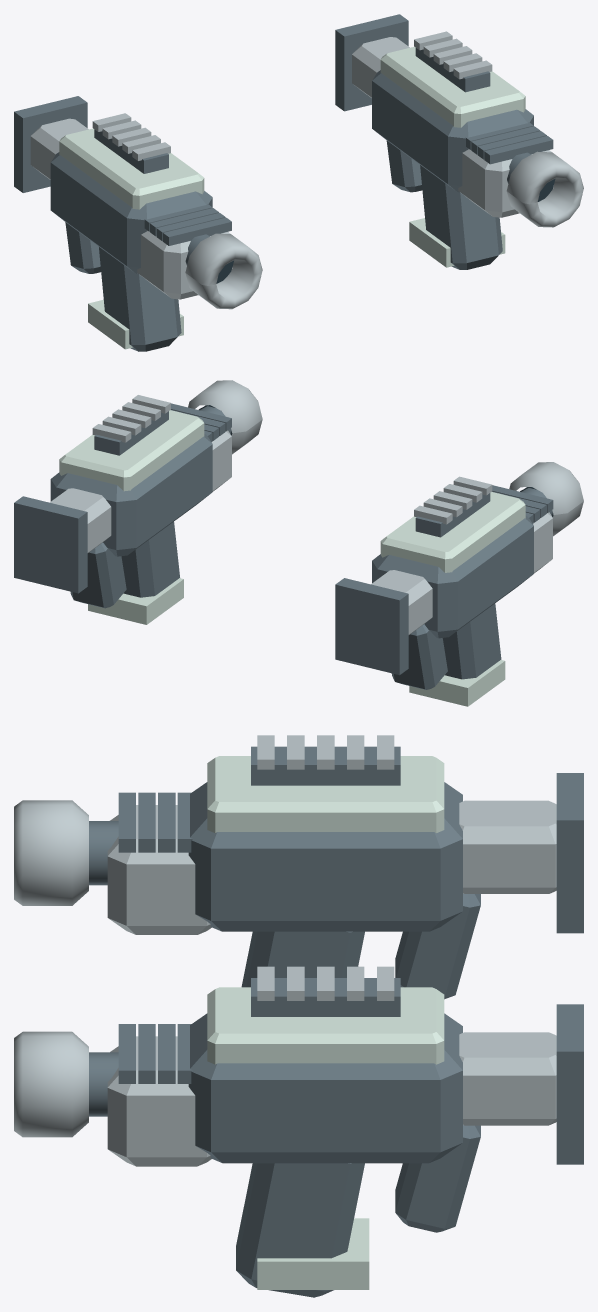
The model's file is dual.glb.
The picture shows the model from 3 angles, top to bottom: view 1: azimuth 30°, elevation 25°; view 2: azimuth 150°, elevation 25°; view 3: azimuth 270°, elevation 25°; orthographic projection. The views are drawn at different scales.
Visible parts, largest first — view 1: static:equipment-steel, static:equipment-rubber, static:equipment-dark-steel, static:equipment-dual; view 2: static:equipment-dark-steel, static:equipment-rubber, static:equipment-steel, static:equipment-dual; view 3: static:equipment-dark-steel, static:equipment-steel, static:equipment-rubber, static:equipment-dual.
Boxes of the visible parts, box(x1,y1,x2,y2) form: static:equipment-steel: box(30, 31, 583, 309); static:equipment-rubber: box(14, 14, 553, 351); static:equipment-dark-steel: box(50, 48, 533, 273); static:equipment-dual: box(59, 46, 525, 349); static:equipment-dark-steel: box(50, 406, 552, 689); static:equipment-rubber: box(14, 403, 553, 679); static:equipment-steel: box(50, 380, 583, 634); static:equipment-dual: box(59, 410, 525, 706); static:equipment-dark-steel: box(89, 746, 480, 1232); static:equipment-steel: box(14, 735, 556, 1166); static:equipment-rubber: box(118, 773, 583, 1297); static:equipment-dual: box(207, 756, 444, 1289).
Bounding box in the file's own units: 0.5686 × 0.2772 × 0.457.
